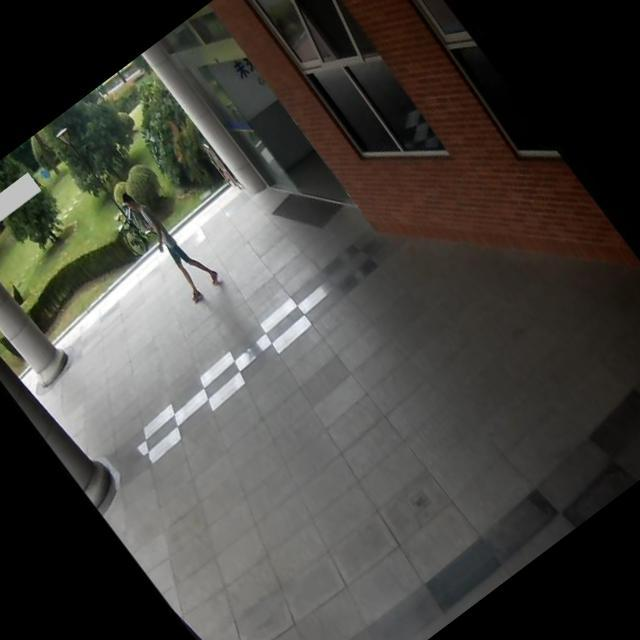person: (98, 163, 240, 324)
